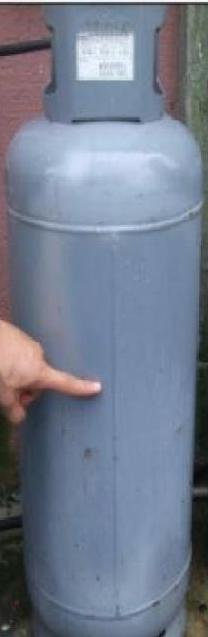cylinder: (1, 1, 208, 637)
